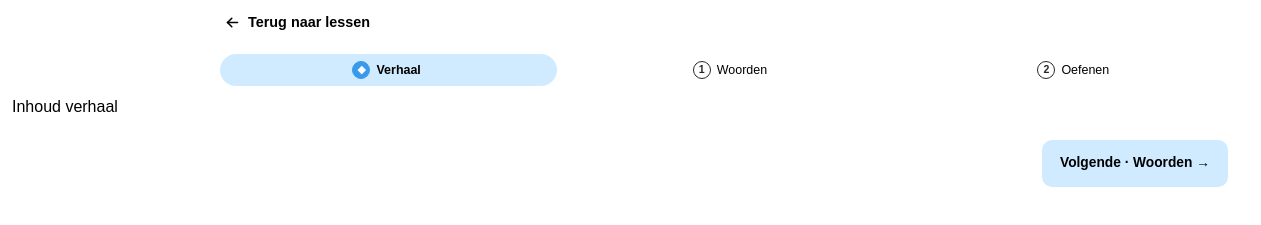
Scenario: ChapterExperience › jumps via the header segments
Click the button "2 Oefenen" at (1075, 70), box [907,54,1244,86]
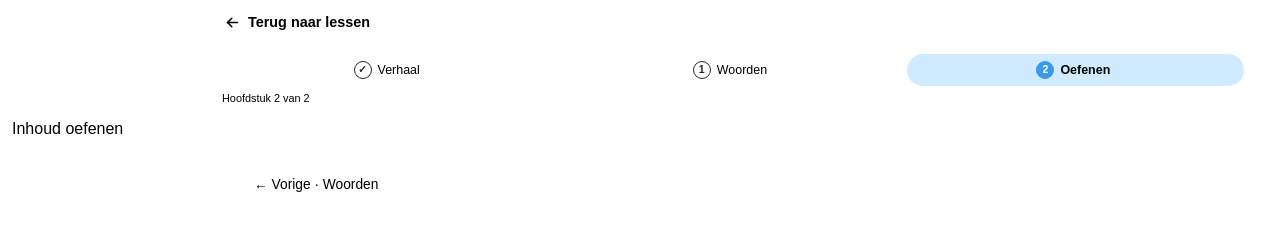
Result: the text "Inhoud oefenen" is shown at [12,120,123,137]
Result: the button "Volgende" is gone
Result: the button "← Vorige · Woorden" is shown at [236,162,396,209]
